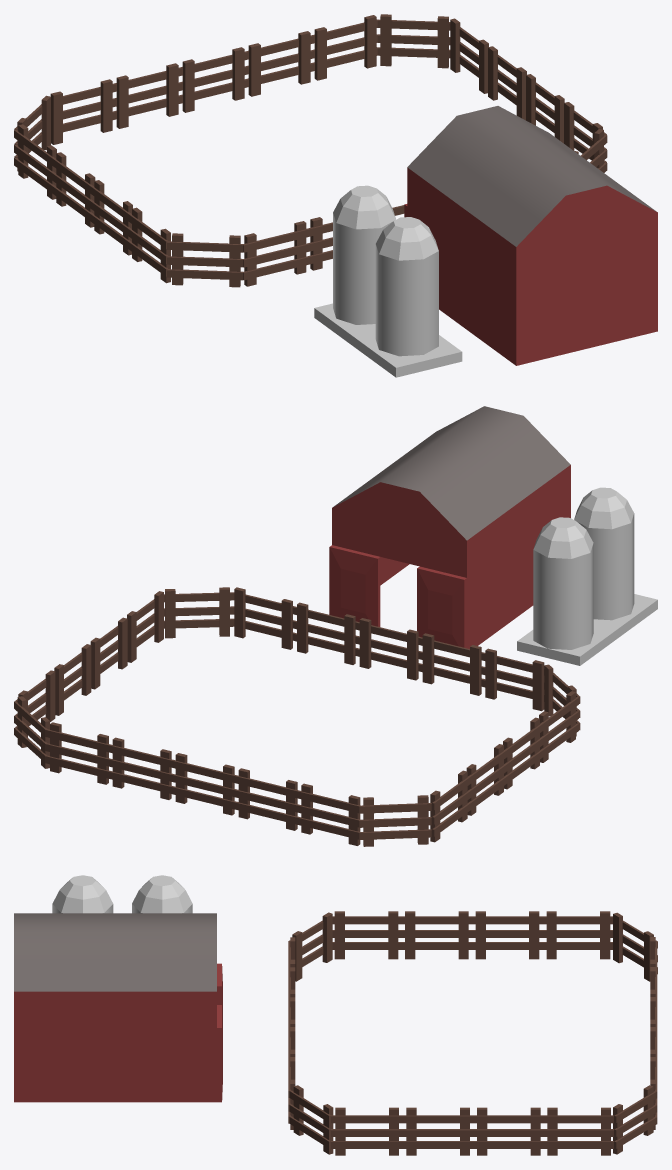
The model's file is Farm.FBX.
3 renders of one model, top to bottom at view 1: azimuth 30°, elevation 25°; view 2: azimuth 150°, elevation 25°; view 3: azimuth 270°, elevation 25°, orthographic. The views are drawn at different scales.
Visible parts, largest first — view 1: Cylinder001; view 2: Cylinder001; view 3: Cylinder001.
Part boxes in pixels (x1=…): Cylinder001: x1=14, y1=14, x2=657, y2=377; Cylinder001: x1=14, y1=406, x2=657, y2=846; Cylinder001: x1=14, y1=875, x2=657, y2=1155.
Size of the model in its own units: 54.35 by 18.65 by 73.88.
